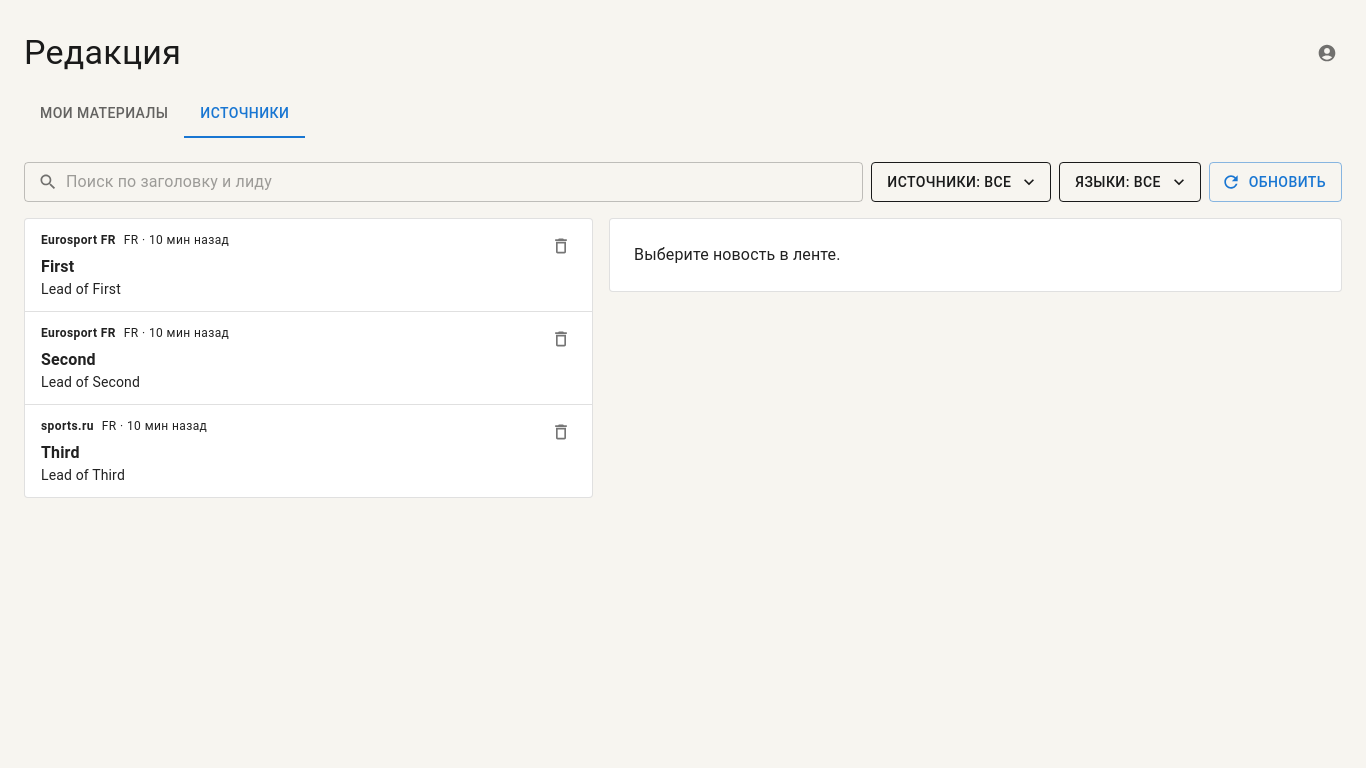
SourcesPage › deletes after the undo window, and an undone delete sends nothing
Expected: the text "First" is shown, top-left (41, 257), bottom-right (74, 276)
Click the button named "Удалить: First": (561, 246) top-left (546, 231), bottom-right (576, 261)
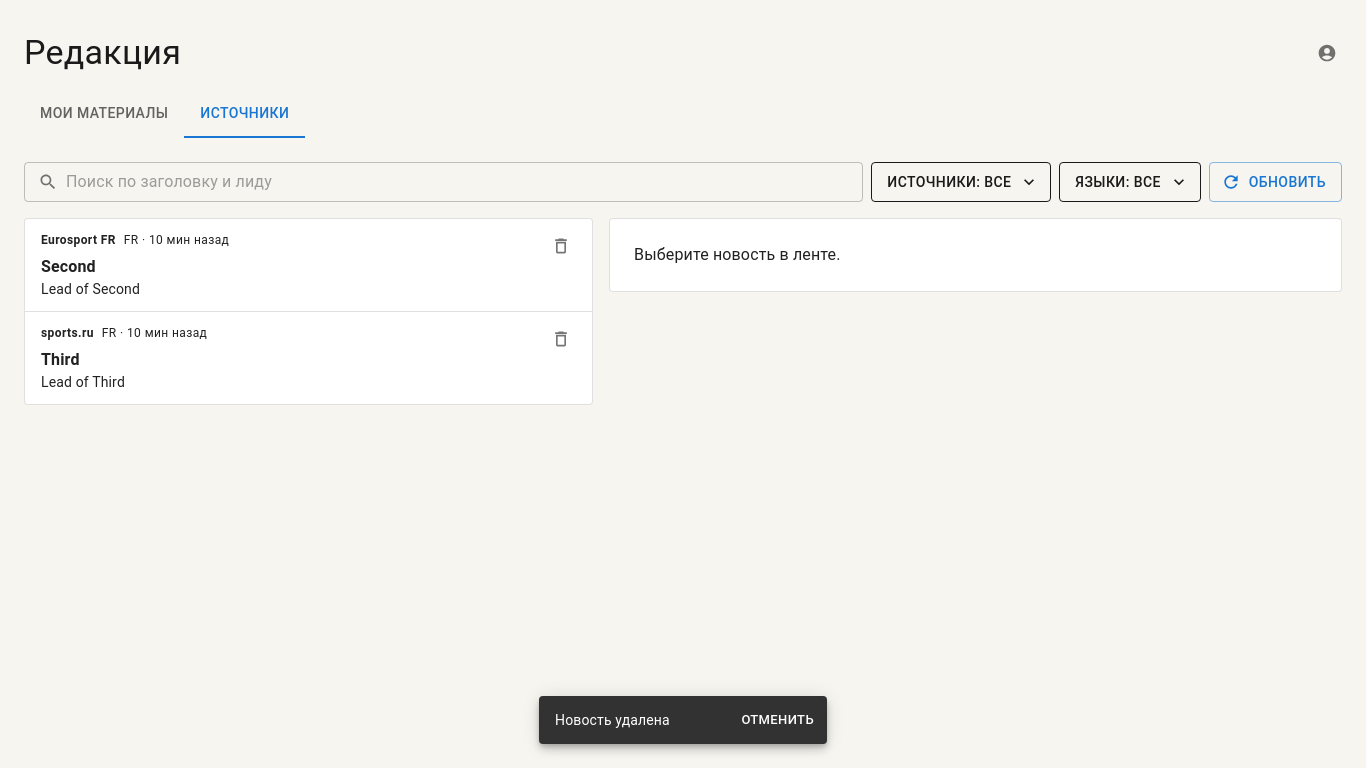
Now the button "First" is gone
Click the button "Отменить": (778, 720) top-left (736, 705), bottom-right (819, 735)
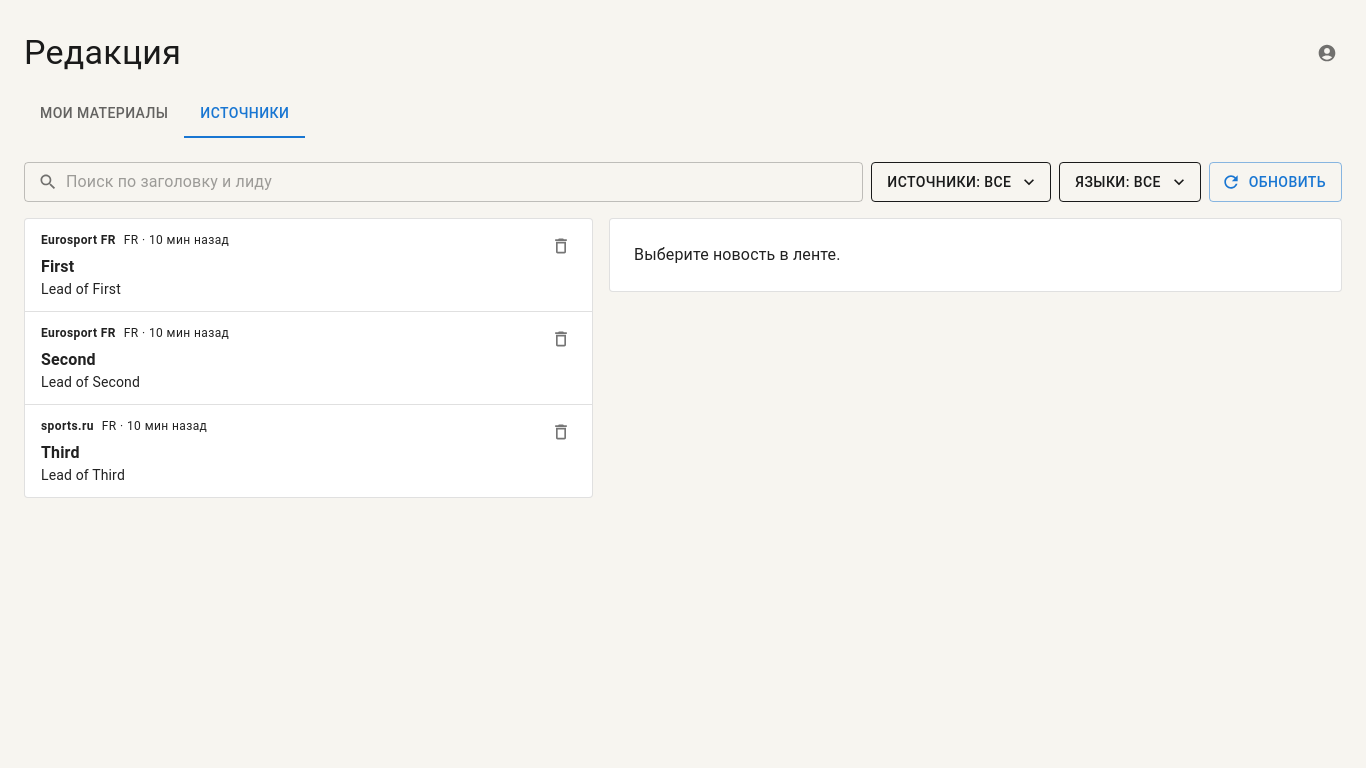
Now the text "First" is shown, box top-left (41, 257), bottom-right (74, 276)
Click the button named "Удалить: Second": (561, 339) top-left (546, 324), bottom-right (576, 354)
Wait 5000 ms
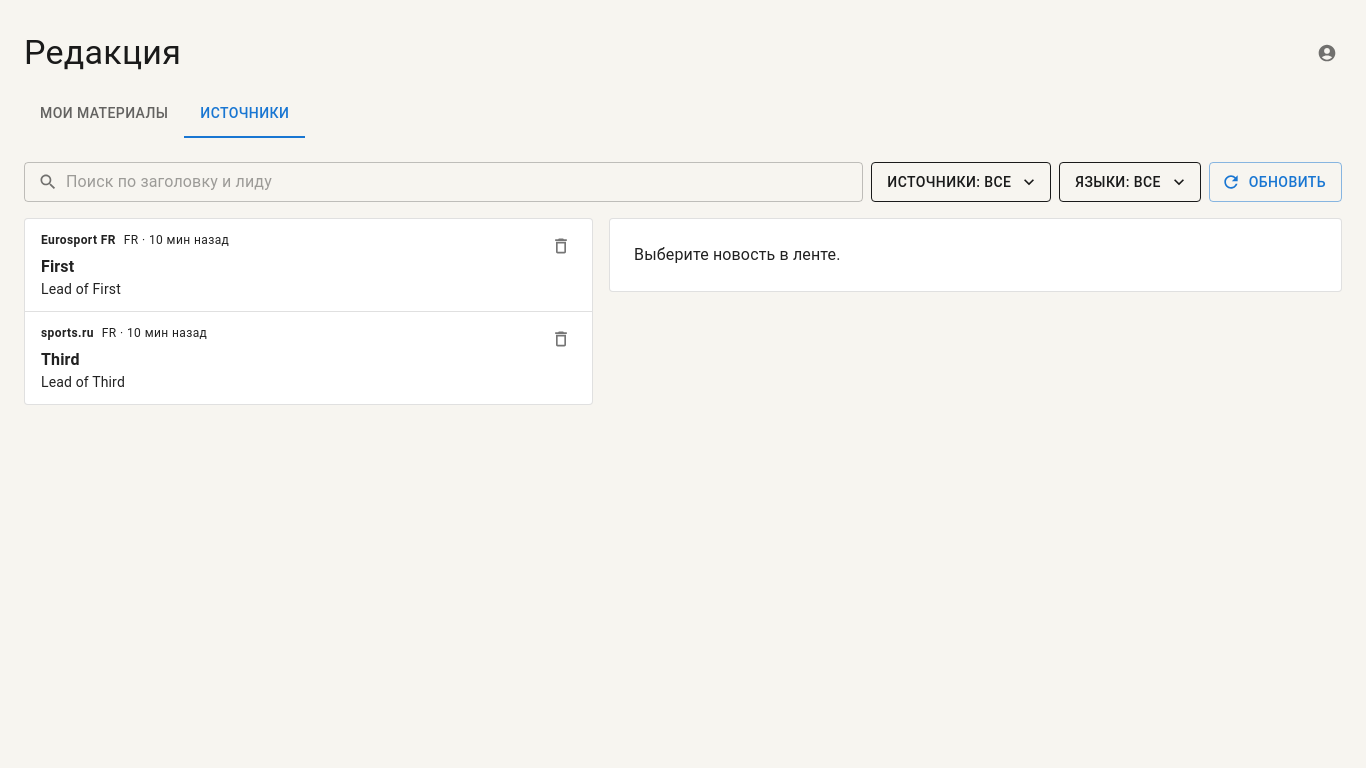
Now the button "Second" is gone
